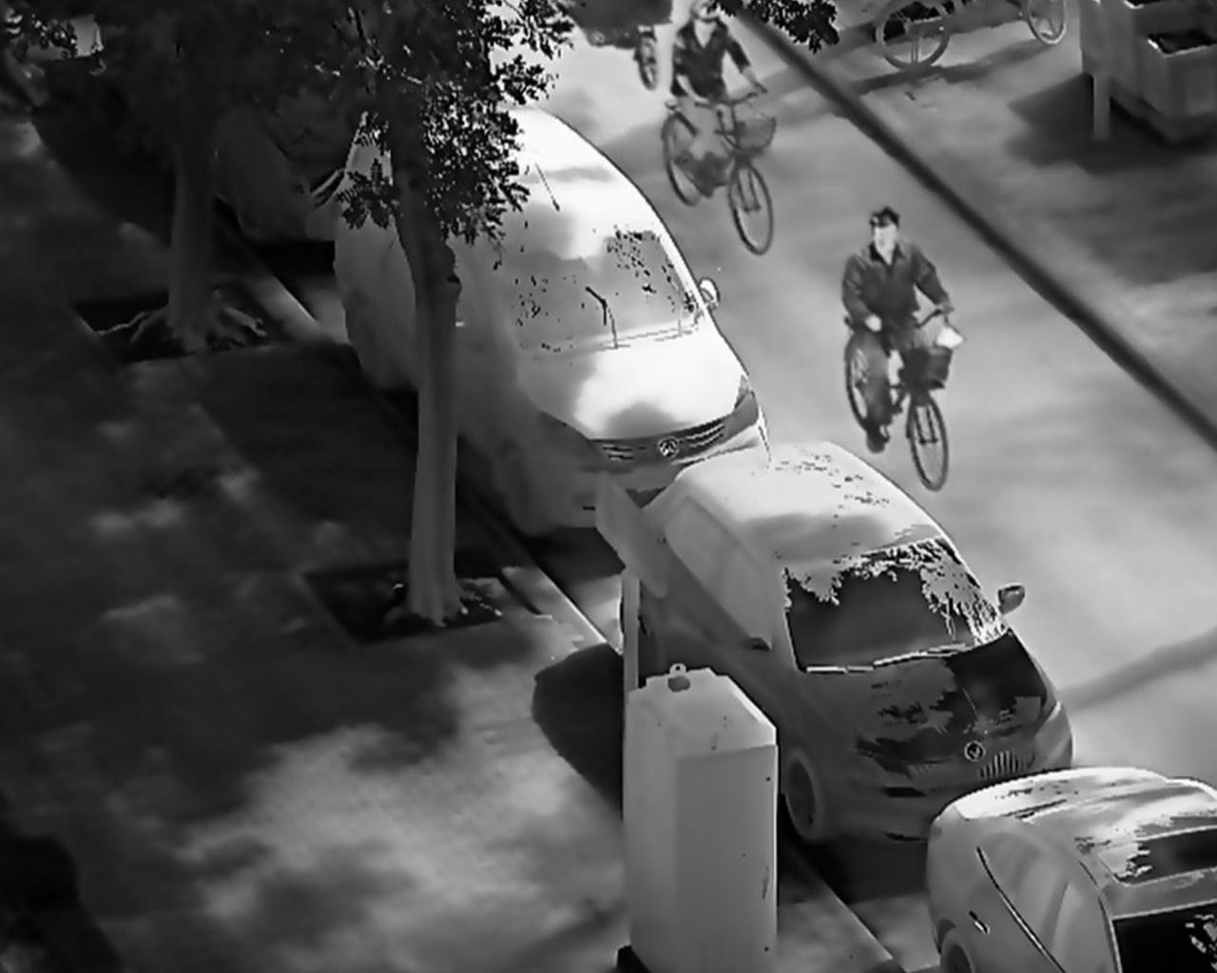person: (839, 203, 966, 455), (667, 2, 771, 204)
